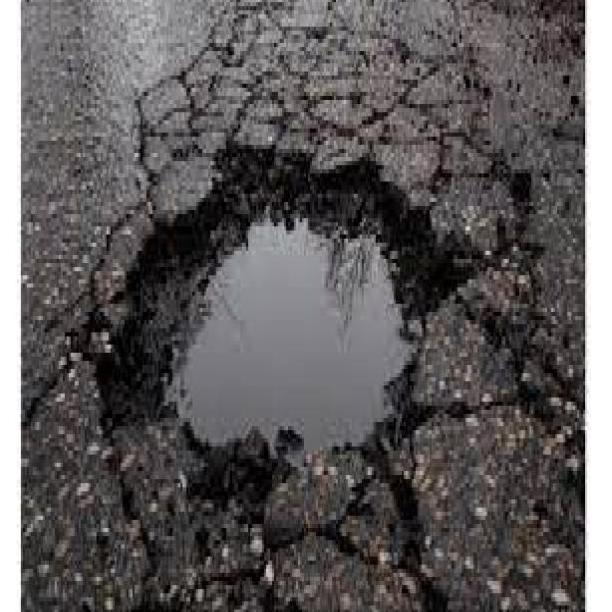pothole: (104, 127, 503, 484)
